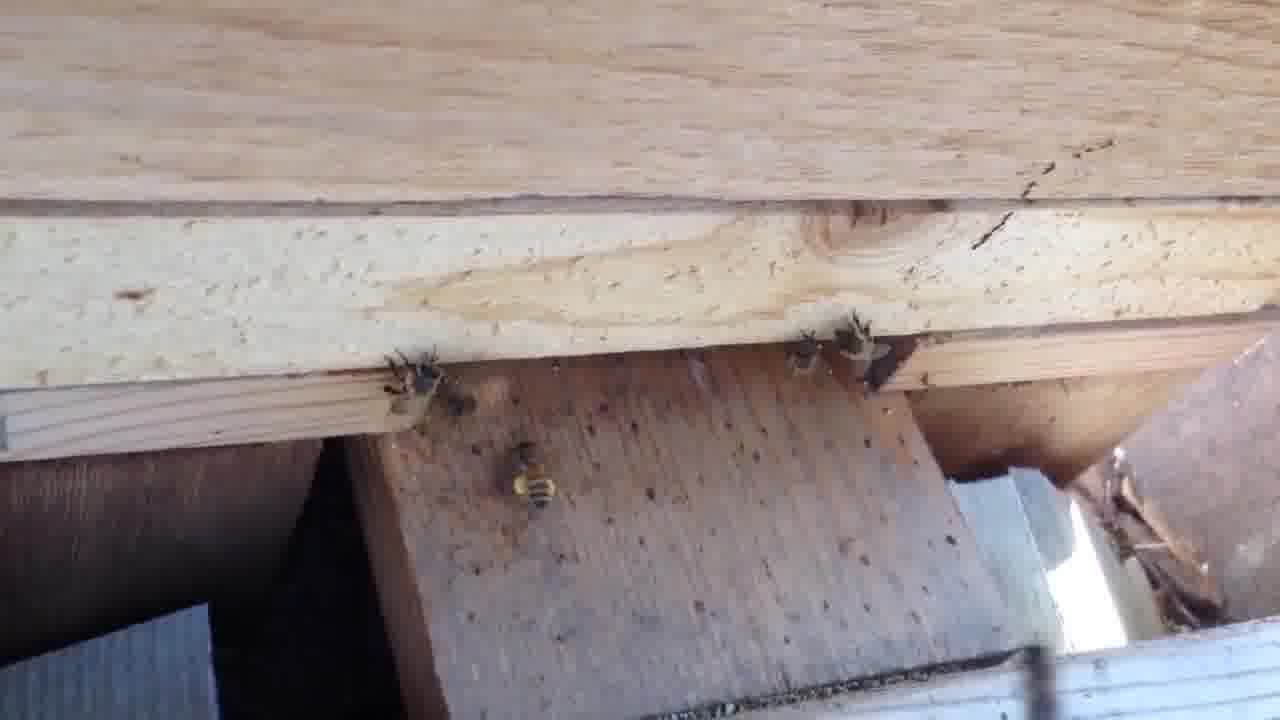pollen: (502, 440, 565, 509)
